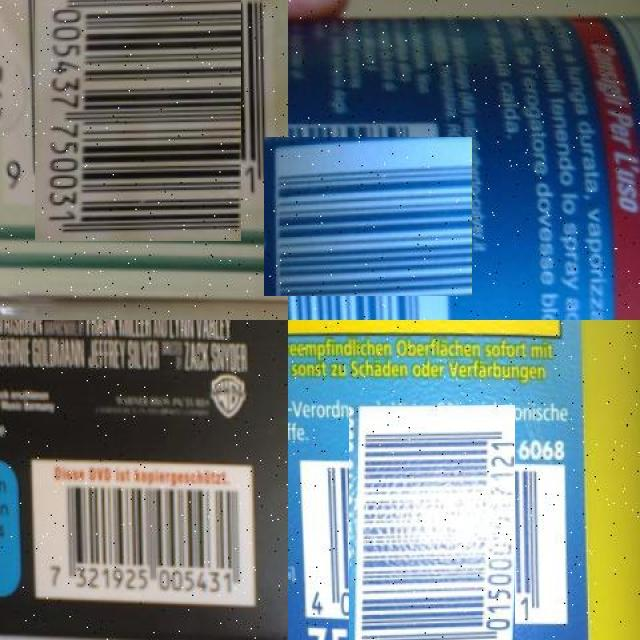Barcode: (17, 0, 257, 223), (324, 429, 541, 640), (276, 124, 460, 308), (31, 458, 253, 605)
